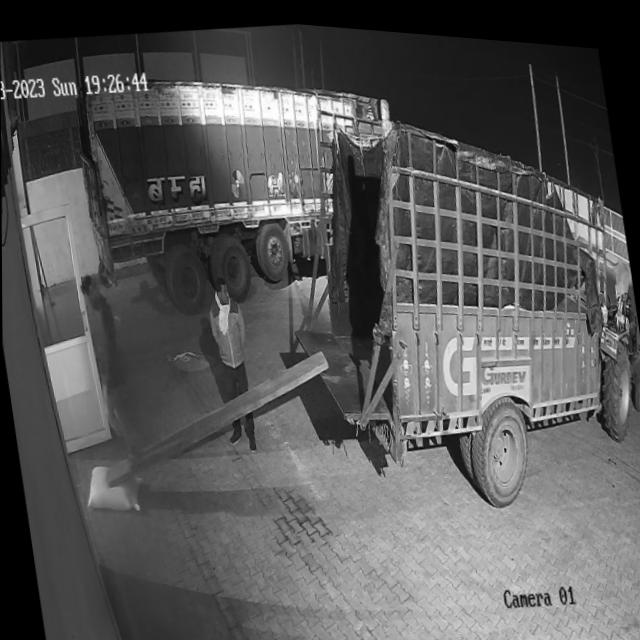sack: (81, 457, 144, 516)
